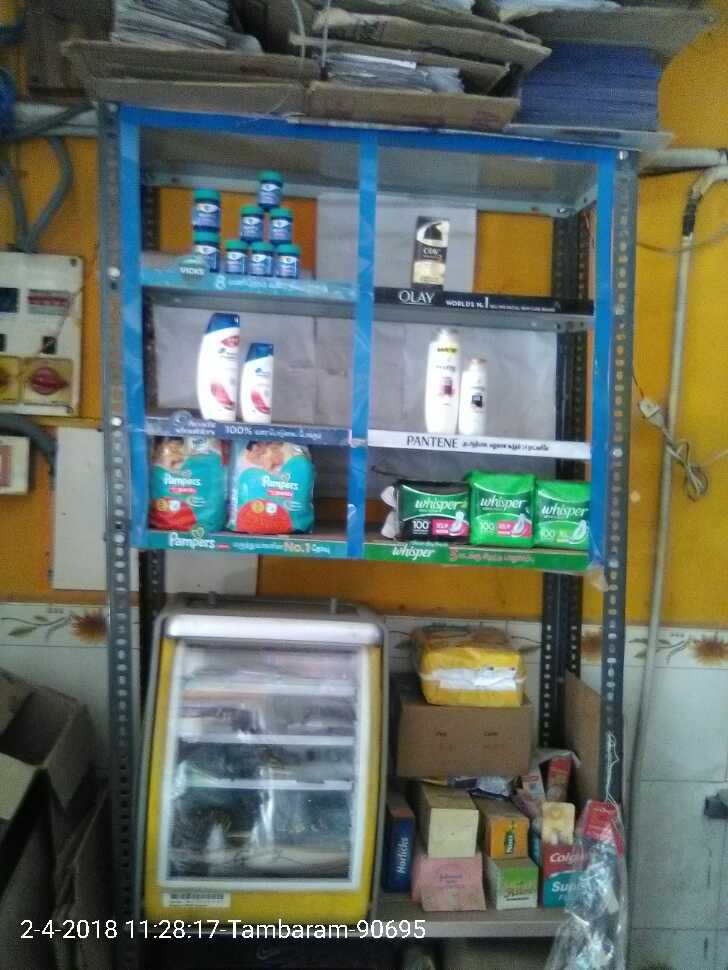vicks: (190, 168, 304, 278)
